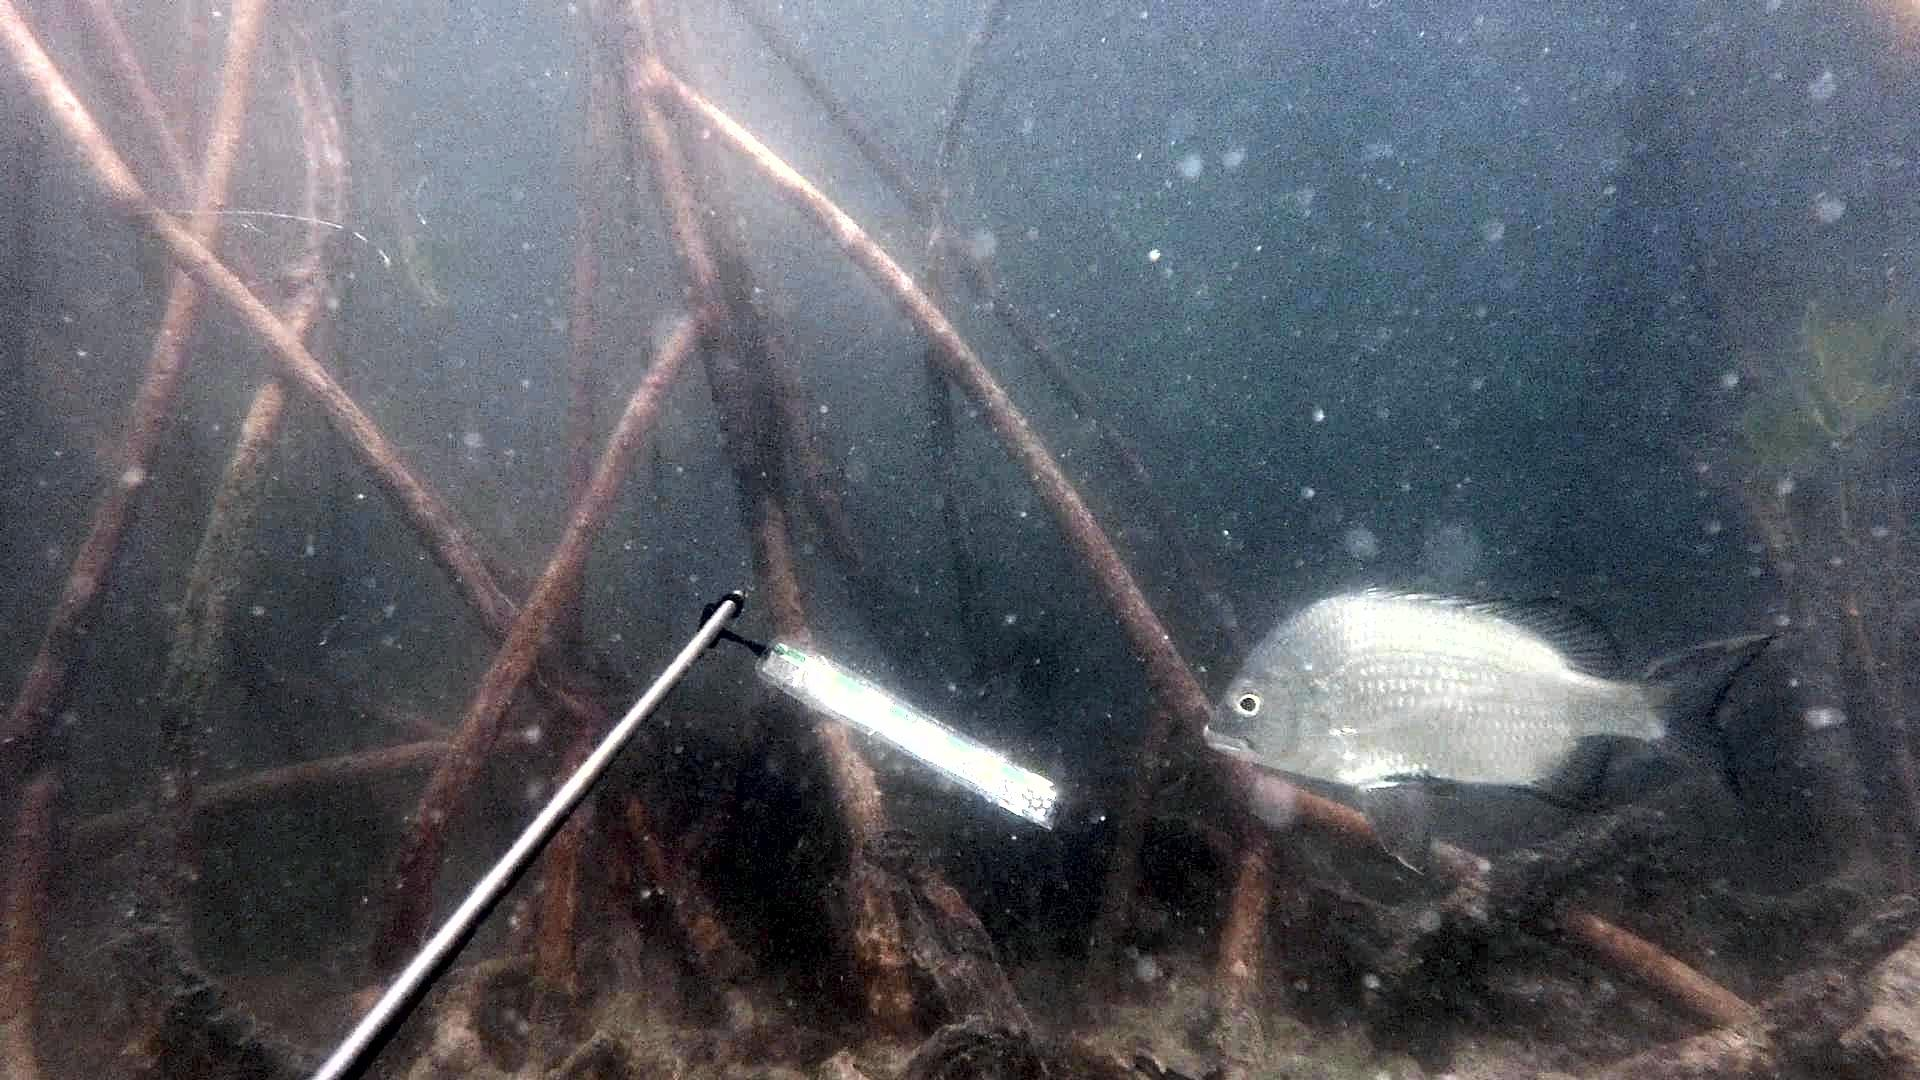acanthopagrus palmaris: (1195, 573, 1774, 878)
